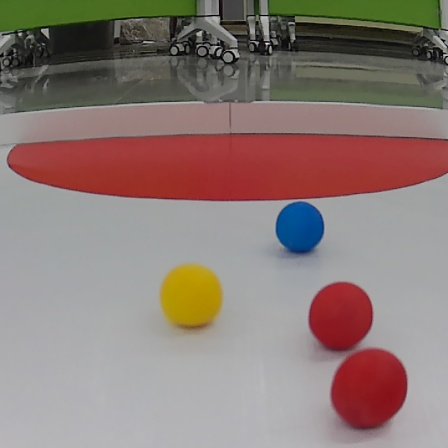blue: (271, 200, 324, 250)
red: (328, 349, 407, 428), (310, 281, 382, 344)
red_base: (8, 124, 448, 200)
yellow: (158, 262, 224, 328)
